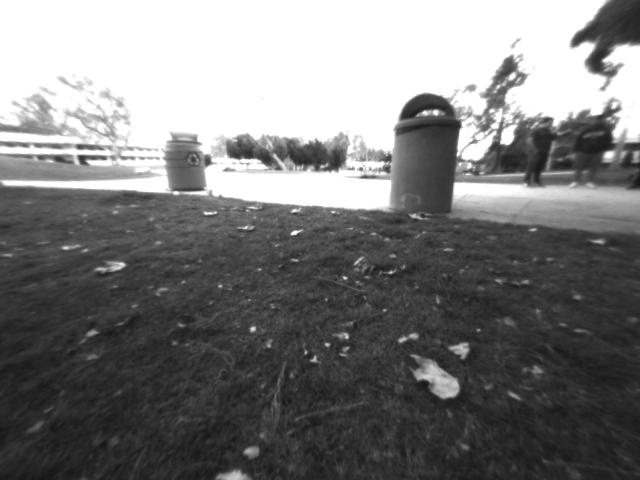trashcan: (382, 85, 468, 226)
